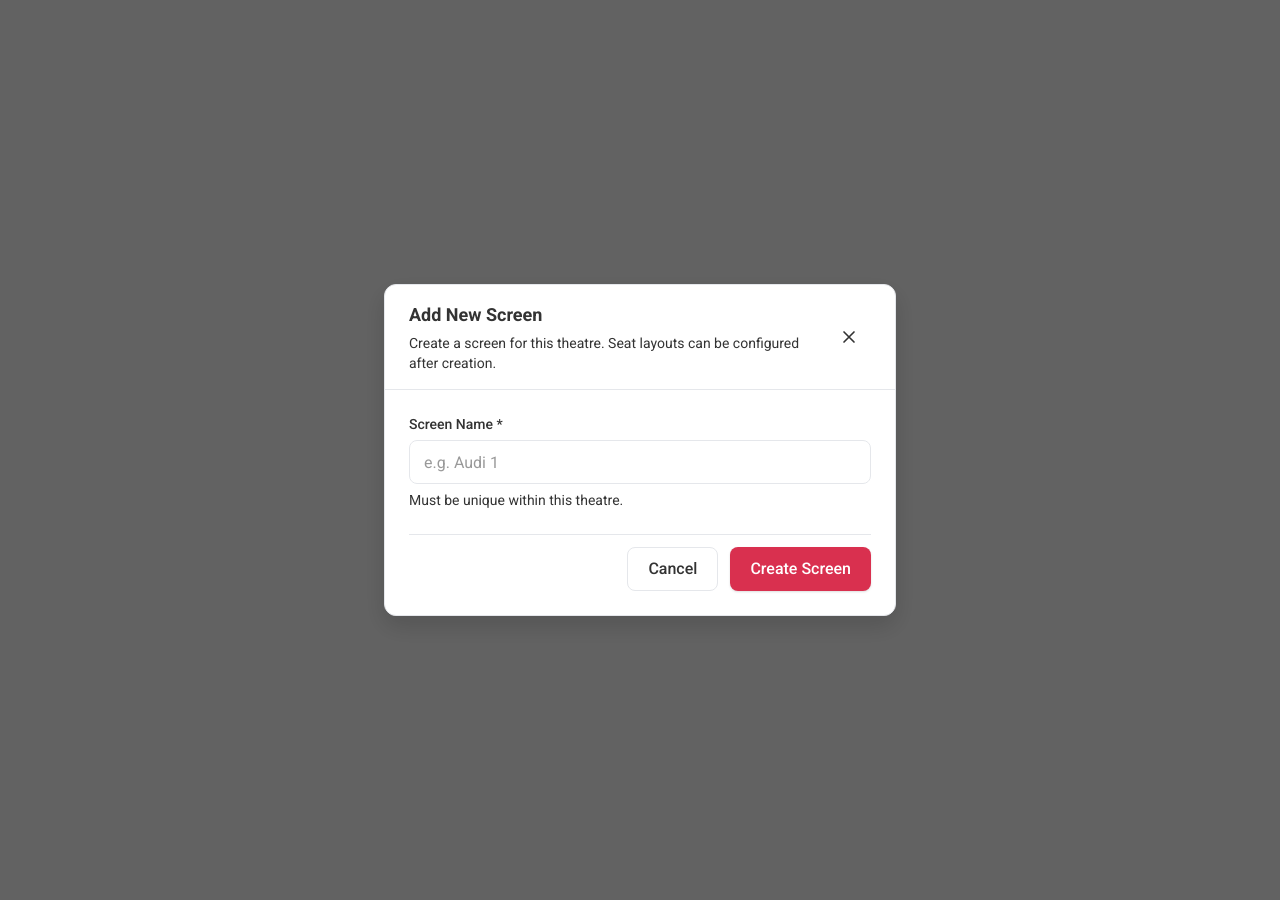
it: CreateScreenModal Error Handling (Pilot Form) › displays safe generic fallback message for 500 error in FormErrorBanner
Type "Audi 3" into the field labelled "Screen Name *" at x=640, y=462, box [409,440,871,484]
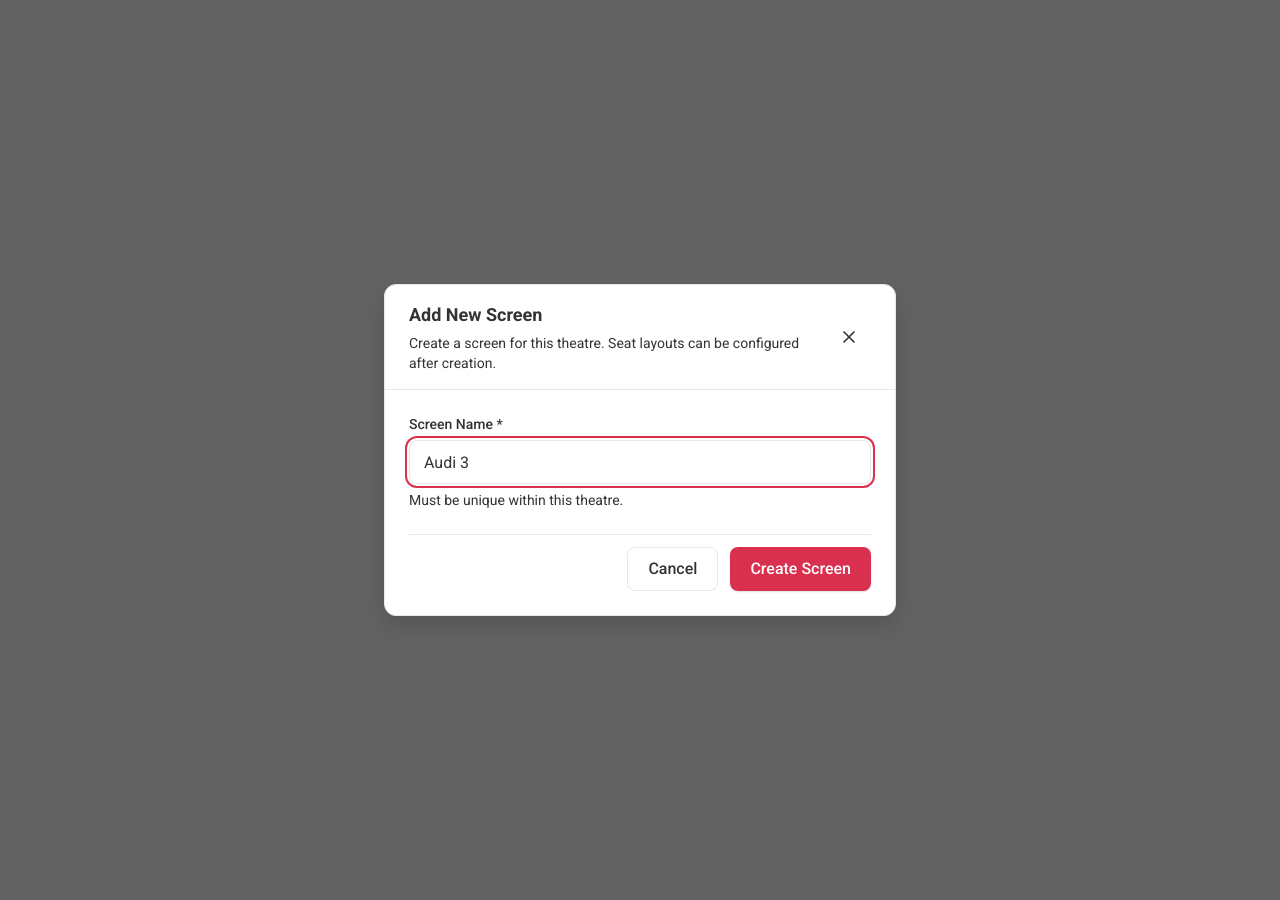
Click the button "Create Screen" at x=801, y=569, box [730,547,871,591]
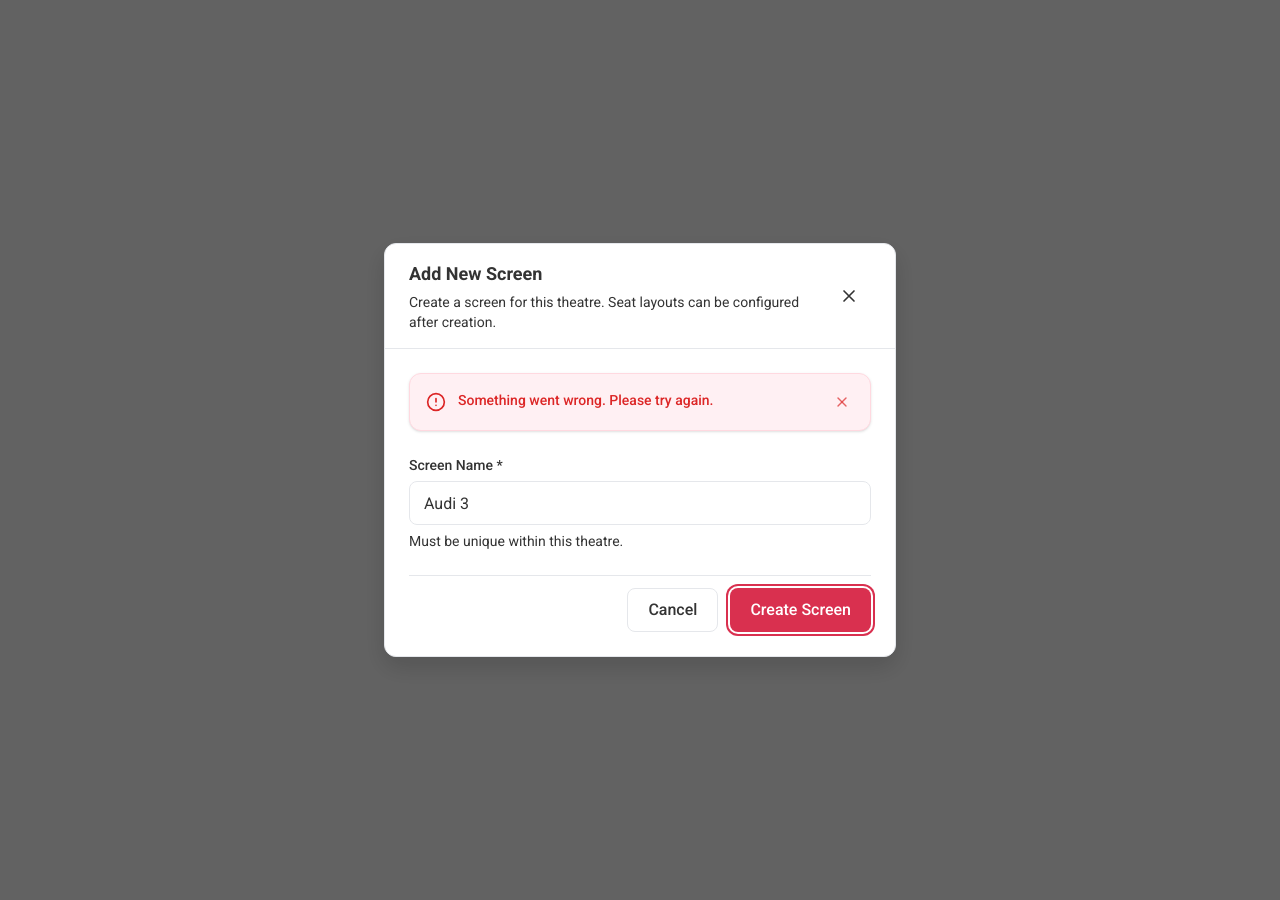
Result: the message reads "Something went wrong. Please try again." at [458,392,714,408]
